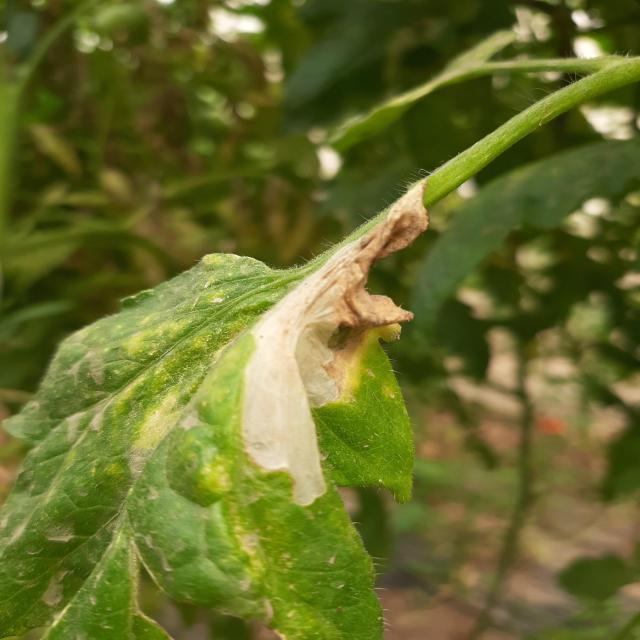Tuta absoluta: (188, 140, 483, 512)
